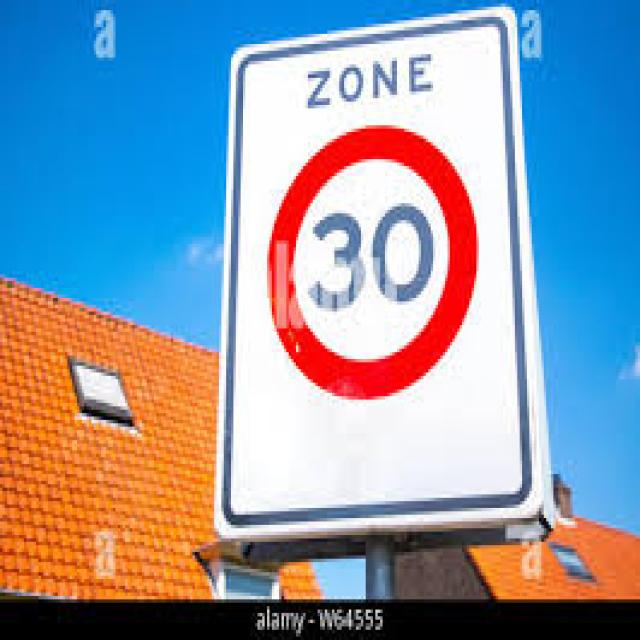speed_30: (226, 9, 542, 536), (268, 128, 482, 390)
